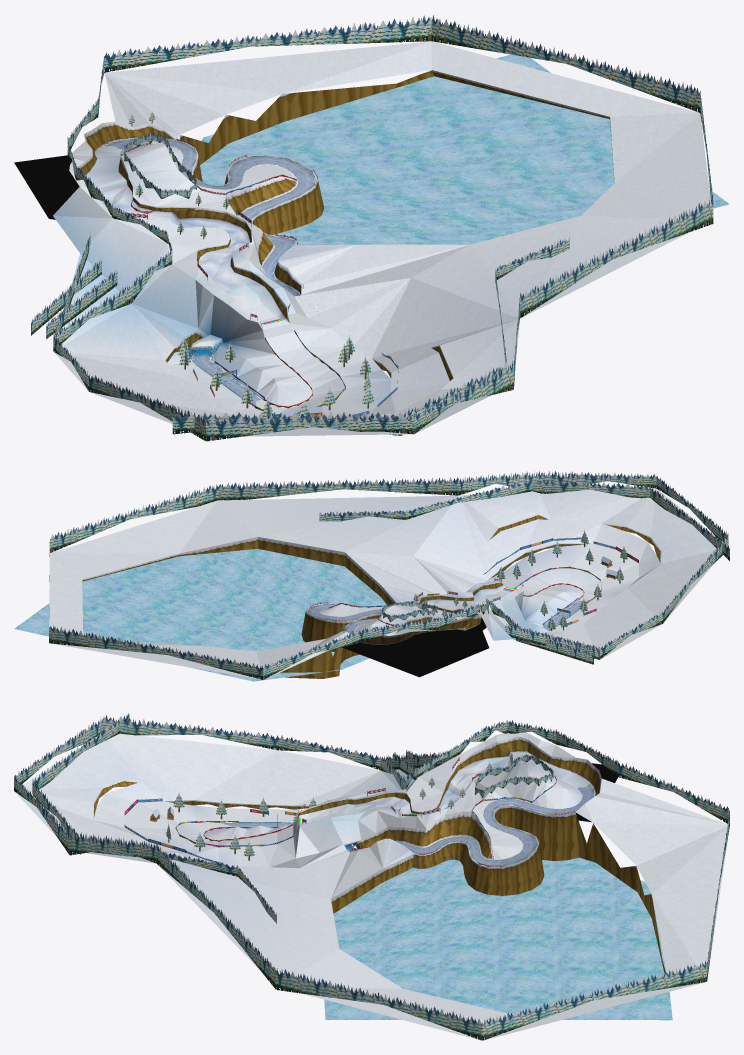
Rendered from snow_course-snow_course.glb.
3 renders of one model, top to bottom at view 1: azimuth 30°, elevation 25°; view 2: azimuth 150°, elevation 25°; view 3: azimuth 270°, elevation 25°, orthographic. The views are drawn at different scales.
Visible parts, largest first — view 1: snow_course; view 2: snow_course; view 3: snow_course.
Boxes of the visible parts, <box> form: snow_course: <box>14,15,729,441</box>; snow_course: <box>14,471,729,681</box>; snow_course: <box>14,713,729,1040</box>.
Size of the model in its own units: 750 by 118 by 755.
Materials: 15 (15 with a texture image).
